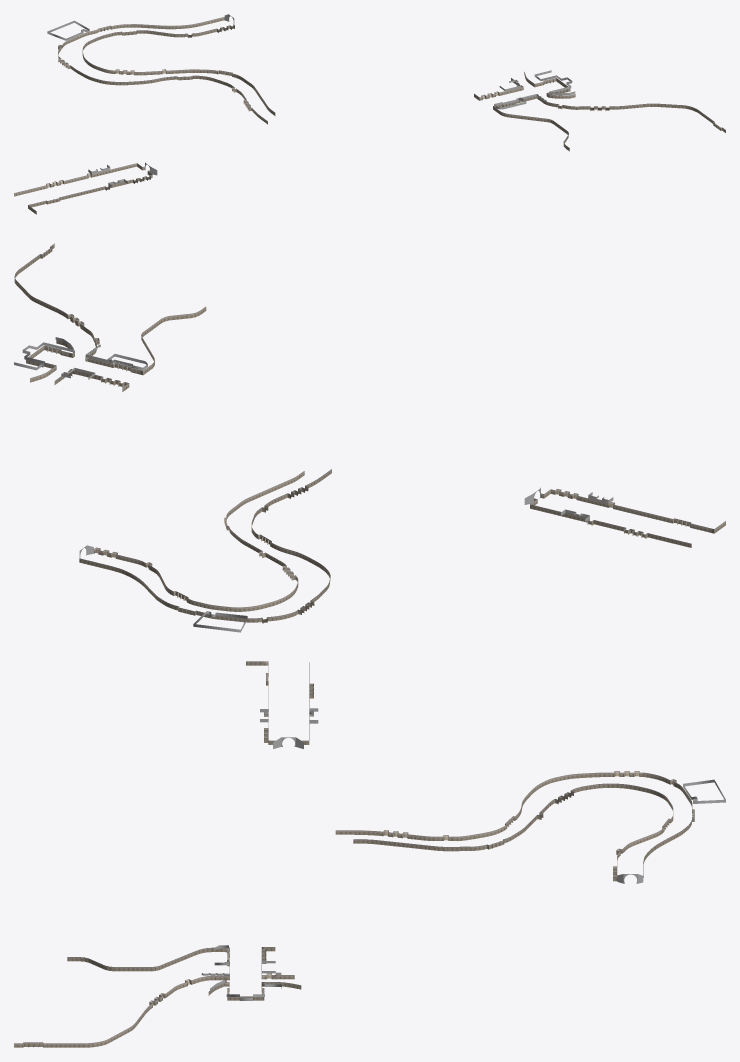
Rendered from waende_01.fbx.
3 renders of one model, top to bottom at view 1: azimuth 30°, elevation 25°; view 2: azimuth 150°, elevation 25°; view 3: azimuth 270°, elevation 25°, orthographic. The views are drawn at different scales.
Visible parts, largest first — view 1: Mesh, Mesh_ncl1_2, Mesh_ncl1_1; view 2: Mesh, Mesh_ncl1_2, Mesh_ncl1_1; view 3: Mesh, Mesh_ncl1_2, Mesh_ncl1_1.
Part boxes in pixels (x1,y1,x2,y2): Mesh: (47, 14, 275, 124); Mesh_ncl1_2: (474, 70, 725, 151); Mesh_ncl1_1: (14, 162, 157, 214); Mesh: (79, 469, 331, 632); Mesh_ncl1_2: (14, 243, 206, 391); Mesh_ncl1_1: (524, 487, 725, 547); Mesh: (335, 771, 725, 883); Mesh_ncl1_2: (14, 945, 301, 1047); Mesh_ncl1_1: (246, 661, 318, 748).
Size of the model in its own units: 61477 by 726 by 48384.
